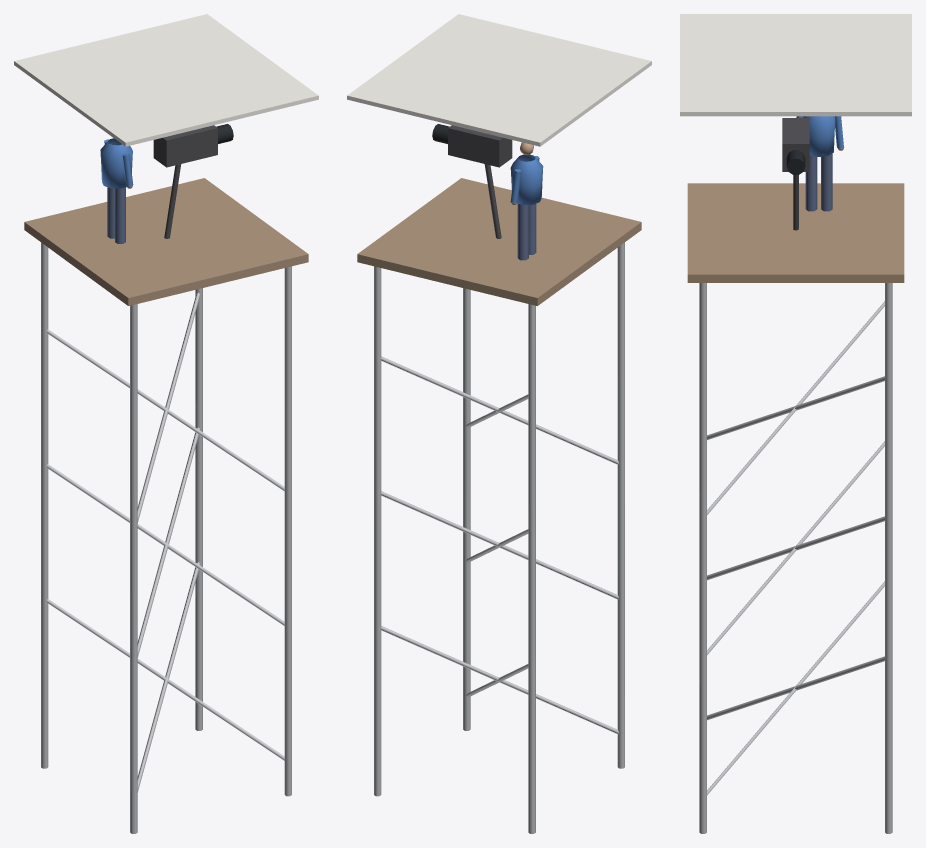
File: SM_CameraTower.fbx
3 renders of one model, left to right at view 1: azimuth 30°, elevation 25°; view 2: azimuth 150°, elevation 25°; view 3: azimuth 270°, elevation 25°, orthographic. The views are drawn at different scales.
Visible parts, largest first — view 1: SM_CameraTower; view 2: SM_CameraTower; view 3: SM_CameraTower.
Boxes of the visible parts, x1,y1,x2,y2 form: SM_CameraTower: [14, 14, 318, 833]; SM_CameraTower: [347, 14, 651, 833]; SM_CameraTower: [680, 14, 911, 833].
Bounding box in the file's own units: 300 × 1043 × 300.
